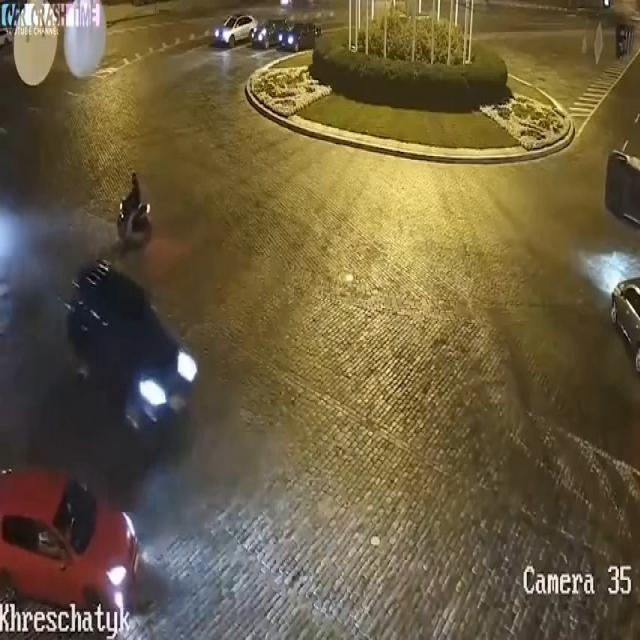Accident: (601, 92, 640, 225)
